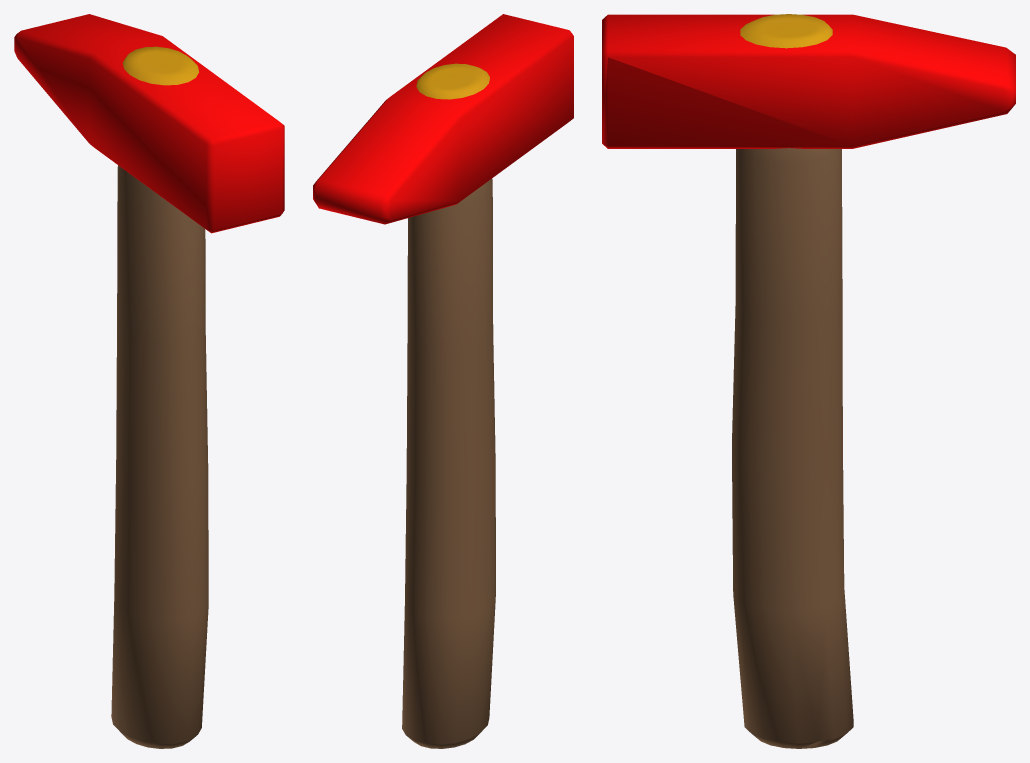
The model's file is hummer5.fbx.
3 renders of one model, left to right at view 1: azimuth 30°, elevation 25°; view 2: azimuth 150°, elevation 25°; view 3: azimuth 270°, elevation 25°, orthographic. The views are drawn at different scales.
Parts seen in each view (by area): view 1: Hammer_LP; view 2: Hammer_LP; view 3: Hammer_LP.
Part boxes in pixels (x1,y1,x2,y2): Hammer_LP: [14, 14, 284, 748]; Hammer_LP: [313, 14, 573, 748]; Hammer_LP: [602, 14, 1015, 748].
Bounding box in the file's own units: 0.1612 × 1.31 × 0.6862.
